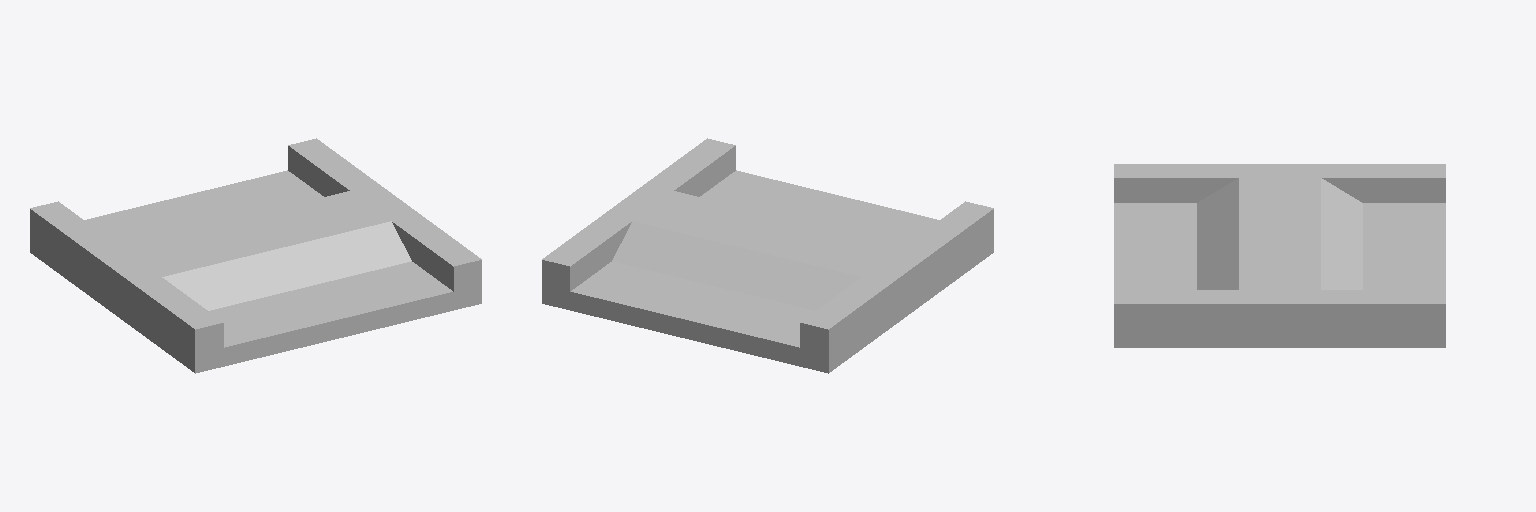
File: Hill_square_01.obj
The picture shows the model from 3 angles: view 1: azimuth 30°, elevation 25°; view 2: azimuth 150°, elevation 25°; view 3: azimuth 270°, elevation 25°; orthographic projection.
Visible parts, largest first — view 1: Mesh1 Hill_square Model; view 2: Mesh1 Hill_square Model; view 3: Mesh1 Hill_square Model.
Part boxes in pixels (x1,y1,x2,y2): Mesh1 Hill_square Model: (30,138,481,373); Mesh1 Hill_square Model: (542,138,993,373); Mesh1 Hill_square Model: (1114,164,1445,347).
Size of the model in its own units: 3 by 0.44 by 3.